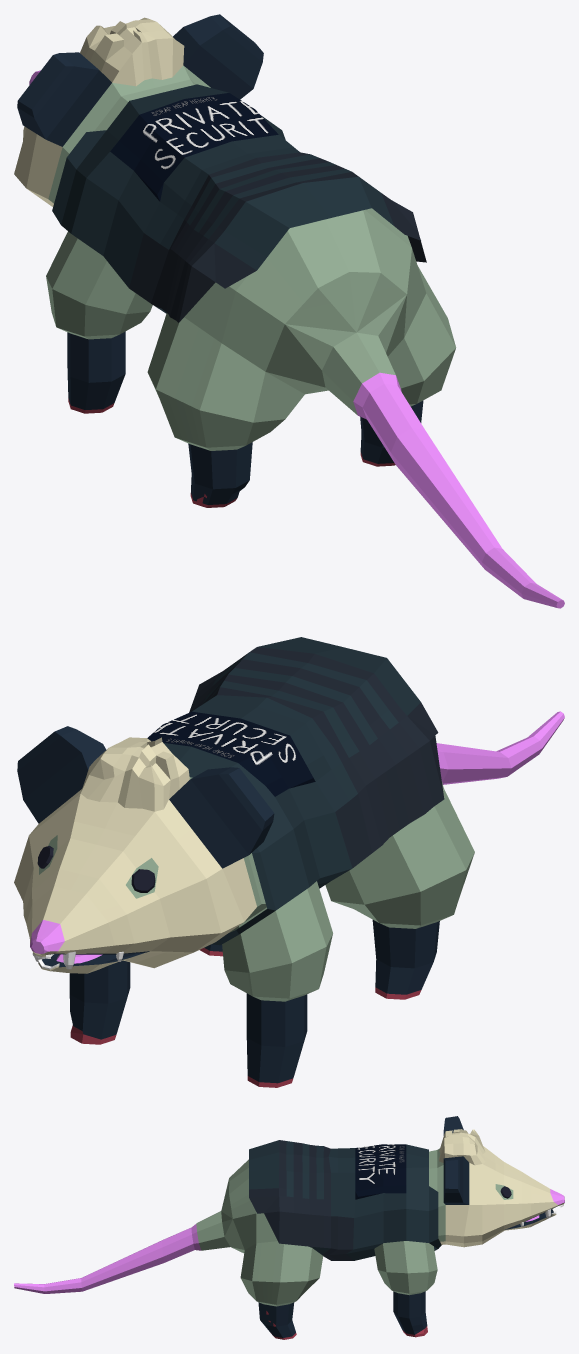
File: NPC_SecurityPossum_RedFeets.fbx
The picture shows the model from 3 angles, top to bottom: view 1: azimuth 30°, elevation 25°; view 2: azimuth 150°, elevation 25°; view 3: azimuth 270°, elevation 25°; orthographic projection. The views are drawn at different scales.
Visible parts, largest first — view 1: Cylinder.243, Cylinder.245; view 2: Cylinder.243, Cylinder.245, Cylinder.244; view 3: Cylinder.243, Cylinder.245, Cylinder.244.
Boxes of the visible parts, bbox=[...] form: Cylinder.243: bbox=[14, 14, 564, 608]; Cylinder.245: bbox=[52, 84, 426, 322]; Cylinder.243: bbox=[14, 711, 564, 1087]; Cylinder.245: bbox=[147, 637, 444, 945]; Cylinder.244: bbox=[38, 953, 143, 973]; Cylinder.243: bbox=[14, 1116, 564, 1339]; Cylinder.245: bbox=[249, 1140, 441, 1260]; Cylinder.244: bbox=[504, 1208, 556, 1230].
Size of the model in its own units: 43.7 by 48.09 by 133.
